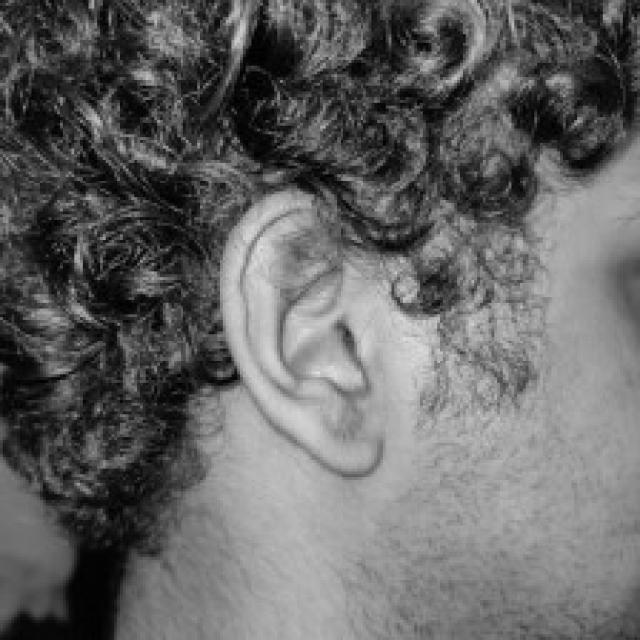ear: (220, 191, 380, 471)
